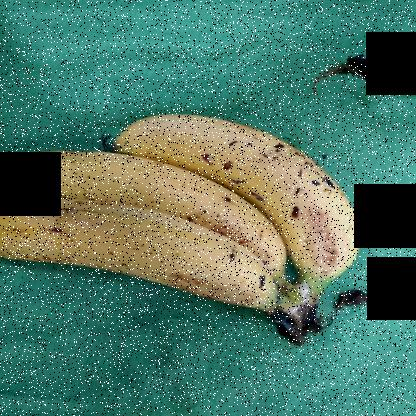ripe: (107, 105, 368, 280), (1, 144, 312, 283), (1, 195, 292, 315)
